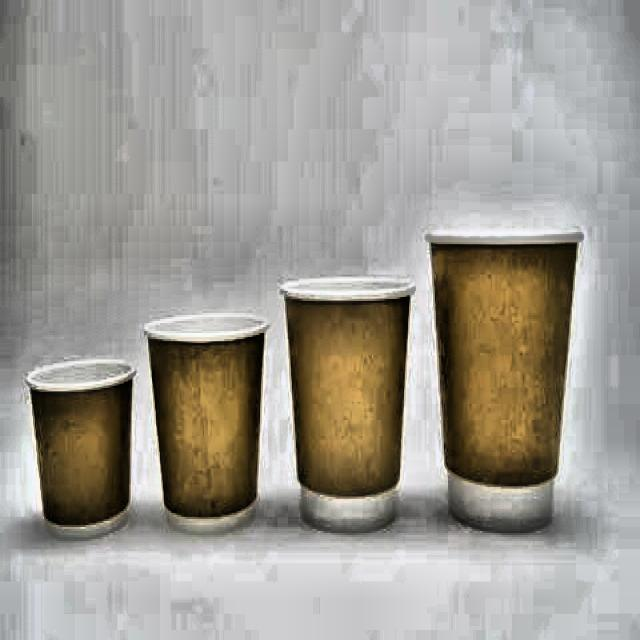Cup: (422, 213, 586, 543), (277, 265, 427, 536), (142, 295, 276, 553), (29, 346, 136, 542)
